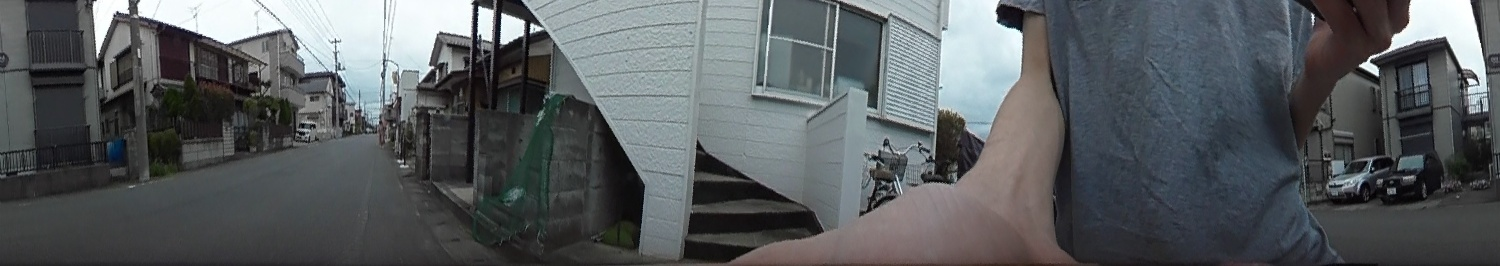difficult_person: (376, 118, 386, 146)
